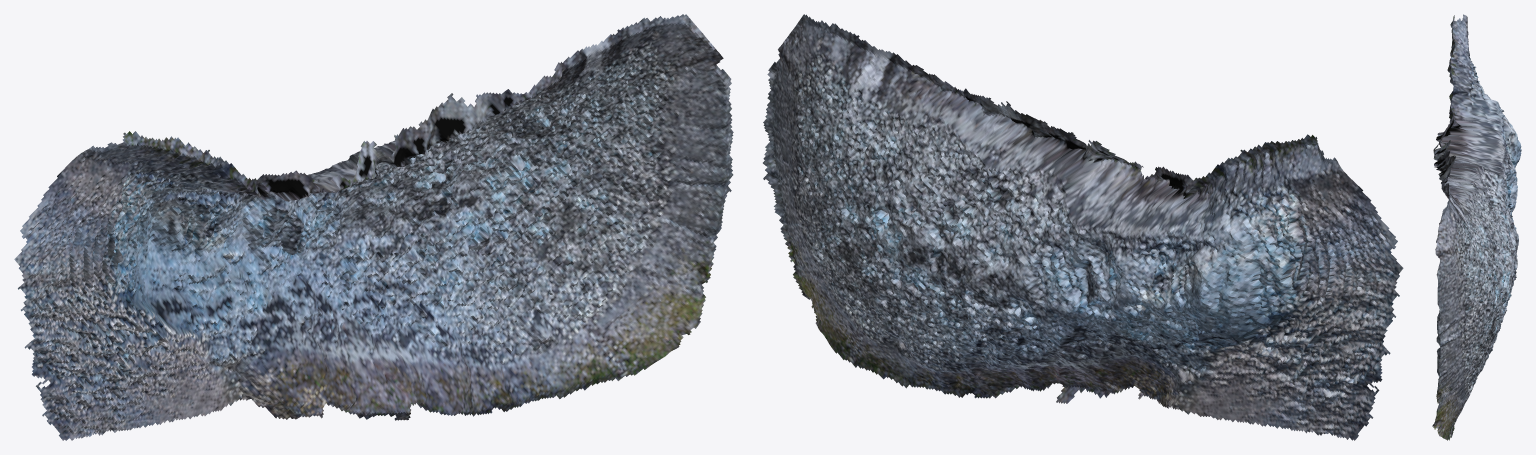
Rendered from sb_cleaned.glb.
The picture shows the model from 3 angles, left to right: view 1: azimuth 30°, elevation 25°; view 2: azimuth 150°, elevation 25°; view 3: azimuth 270°, elevation 25°; orthographic projection. The views are drawn at different scales.
Visible parts, largest first — view 1: sb_dem_scaled; view 2: sb_dem_scaled; view 3: sb_dem_scaled.
Part boxes in pixels (left/top/right/bottom): sb_dem_scaled: left=14, top=14, right=733, bottom=440; sb_dem_scaled: left=763, top=14, right=1403, bottom=440; sb_dem_scaled: left=1432, top=14, right=1521, bottom=440.
Size of the model in its own units: 1779 by 908 by 282.
1 material, 1 textured.
